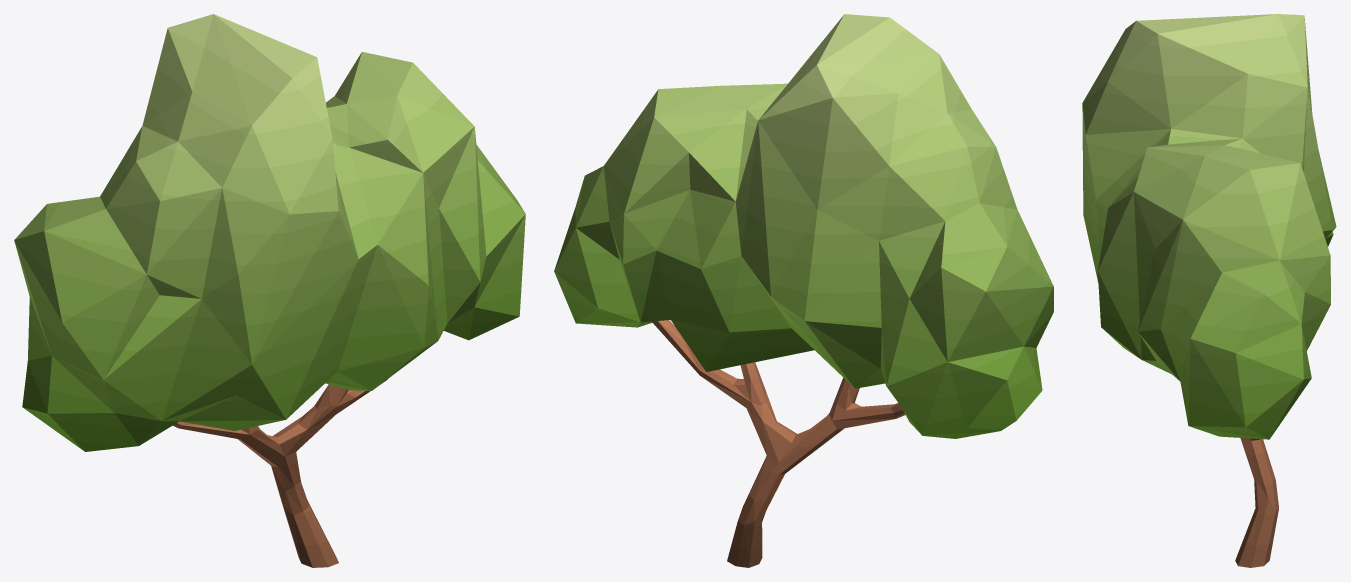
Rendered from tree_pine.glb.
3 views of the same model, side by side, from view 1: azimuth 30°, elevation 25°; view 2: azimuth 150°, elevation 25°; view 3: azimuth 270°, elevation 25° (orthographic). The views are drawn at different scales.
Visible parts, largest first — view 1: tree_pine; view 2: tree_pine; view 3: tree_pine.
Part boxes in pixels (x1,y1,x2,y2): tree_pine: (14, 14, 525, 567); tree_pine: (554, 14, 1053, 567); tree_pine: (1082, 14, 1336, 567).
Size of the model in its own units: 5.67 by 6.2 by 2.82.
Materials: 1 (1 with a texture image).
